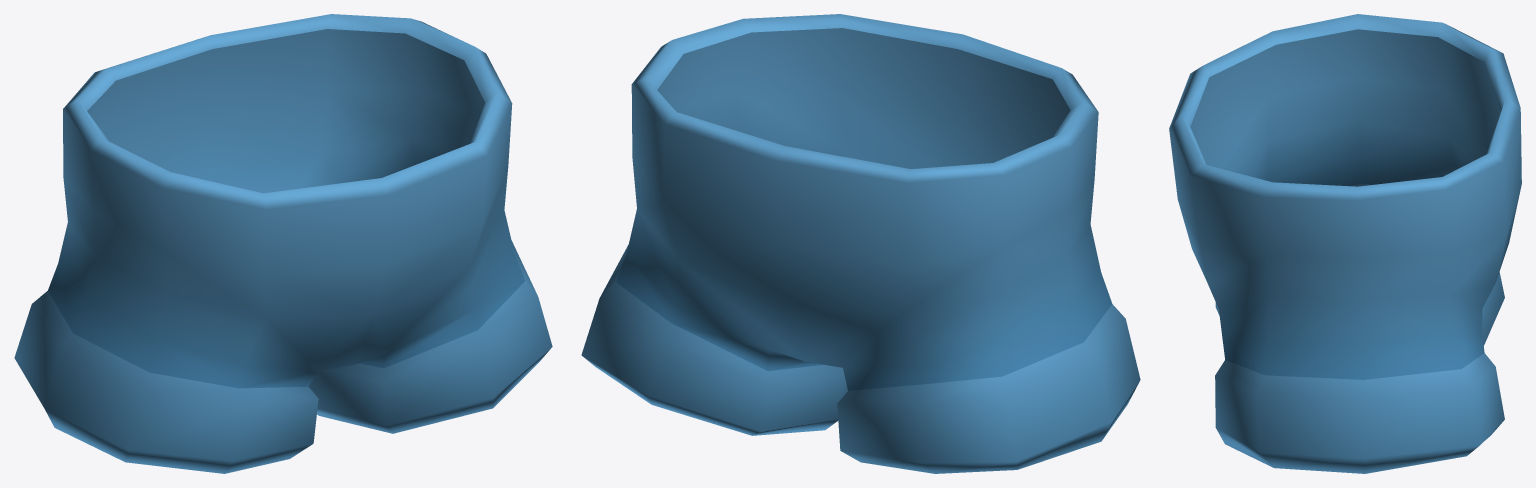
The model's file is Bottom_01_Slim.fbx.
3 renders of one model, left to right at view 1: azimuth 30°, elevation 25°; view 2: azimuth 150°, elevation 25°; view 3: azimuth 270°, elevation 25°, orthographic. The views are drawn at different scales.
Visible parts, largest first — view 1: Bottom_01_Slim; view 2: Bottom_01_Slim; view 3: Bottom_01_Slim.
Boxes of the visible parts, bbox=[...] form: Bottom_01_Slim: bbox=[14, 14, 552, 473]; Bottom_01_Slim: bbox=[581, 14, 1140, 473]; Bottom_01_Slim: bbox=[1169, 14, 1521, 473].
Size of the model in its own units: 30.77 by 20.56 by 20.66.
